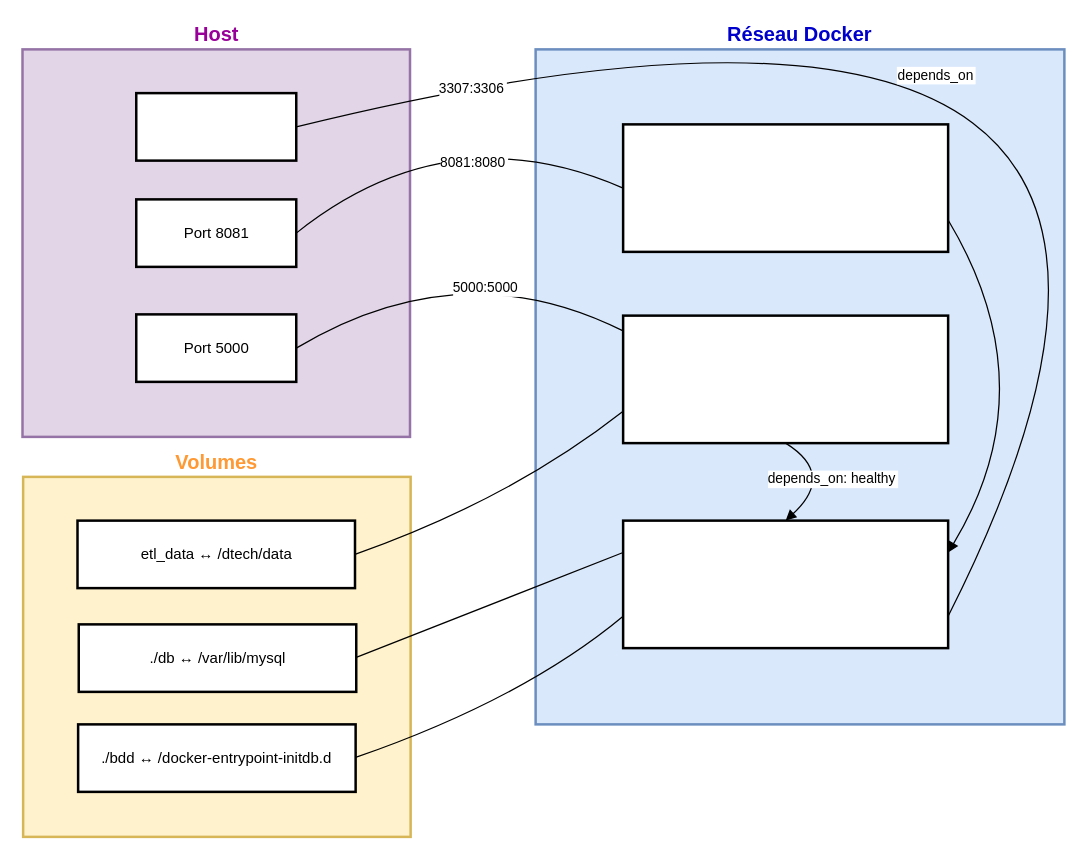
Image size: 1088x859. Some labels were removed from this diagram. The centre of each missing label's shape, as x and y in pixels:
adminer (image: adminer) container: adminer_dt :8080: point 785,187
etl (build: Dockerfile.backend) container: etl_dt :5000: point 785,379
mysql_db (image: mysql) container: db_dt :3306: point 785,584
Port 3307: point 215,126
